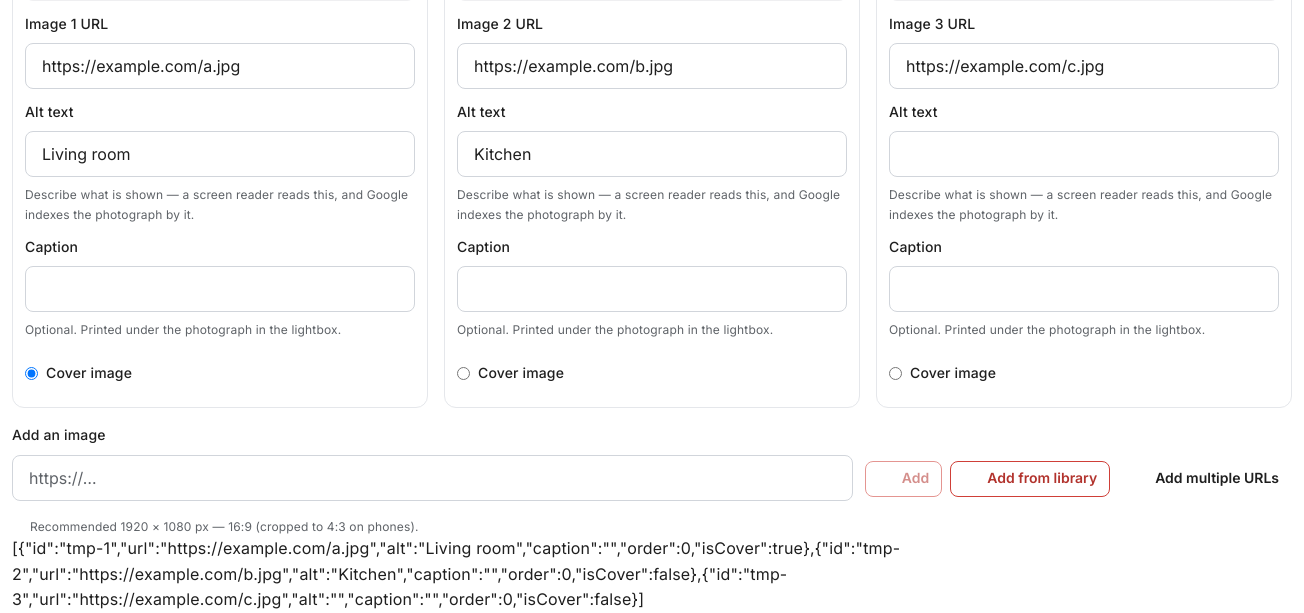
Scenario: adding by address (QA-62) › refuses text that is not an address, rather than adding a broken row
(page scrolled)
Step 1. Type "not-a-url" into the field labelled "Add an image" → (432, 478), box [12, 455, 853, 501]
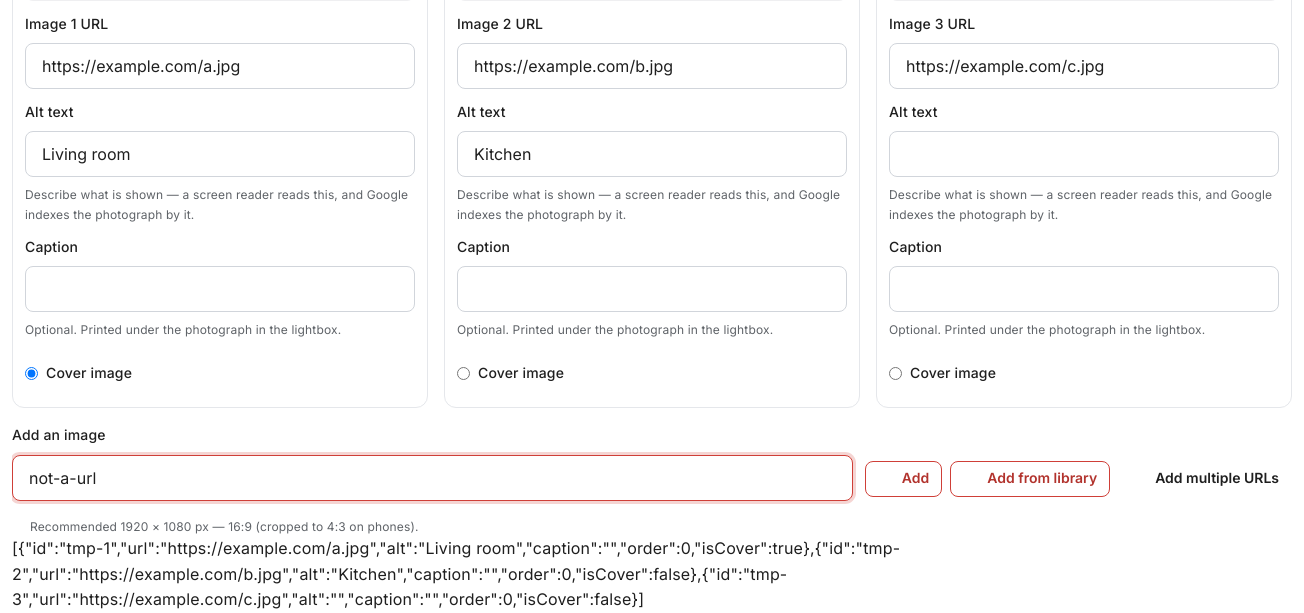
Step 2. Click the button "Add" → (904, 479), box [865, 461, 942, 497]
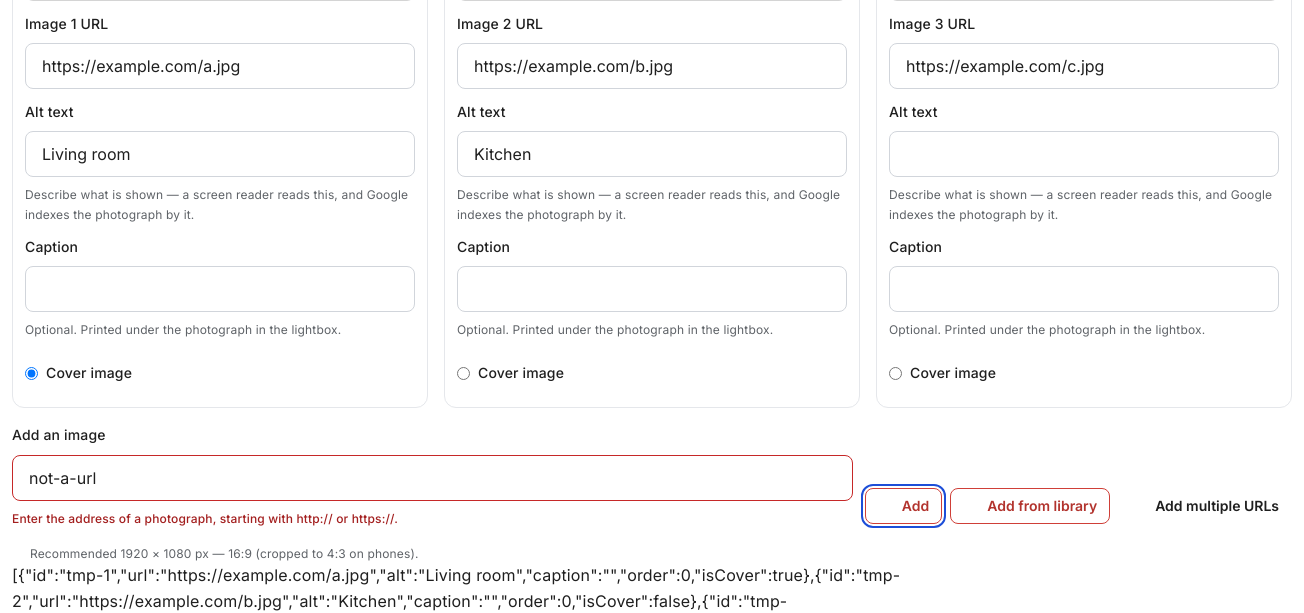
Expected: the text "Enter the address of a photograph, starting with http:// or https://." is shown, [12, 511, 398, 526]
